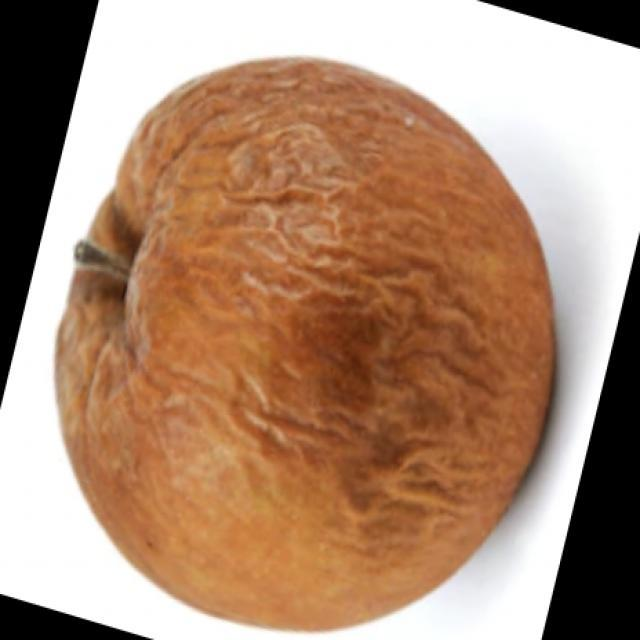Rotten: (90, 63, 542, 605)
